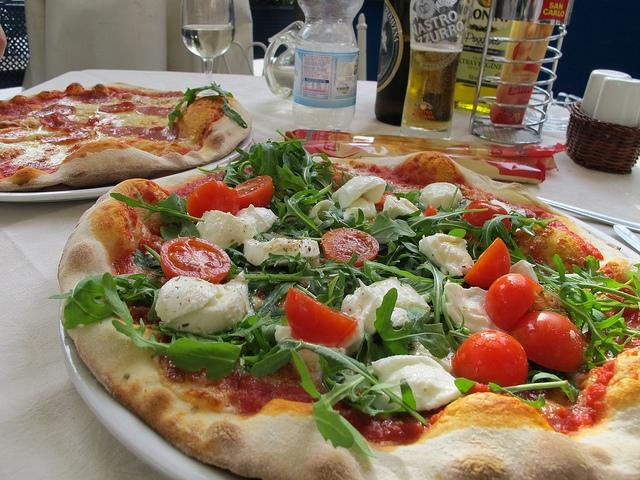tomato: (206, 363, 320, 415), (506, 311, 584, 372), (452, 330, 528, 387), (284, 288, 358, 344), (160, 236, 232, 284), (486, 272, 544, 331), (463, 237, 511, 292), (322, 228, 379, 268), (462, 199, 512, 240), (186, 181, 241, 218), (234, 175, 274, 211), (376, 191, 398, 208), (424, 204, 438, 216), (579, 404, 593, 414)
